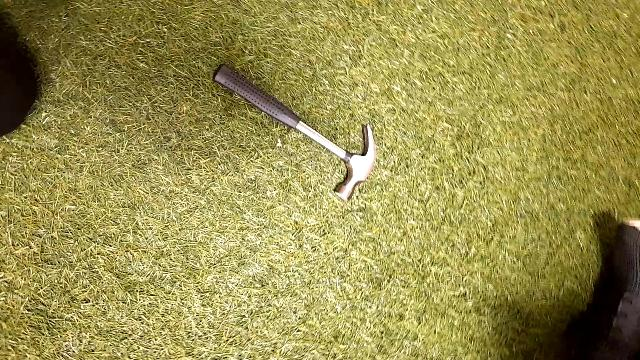hammer: (202, 38, 384, 214)
